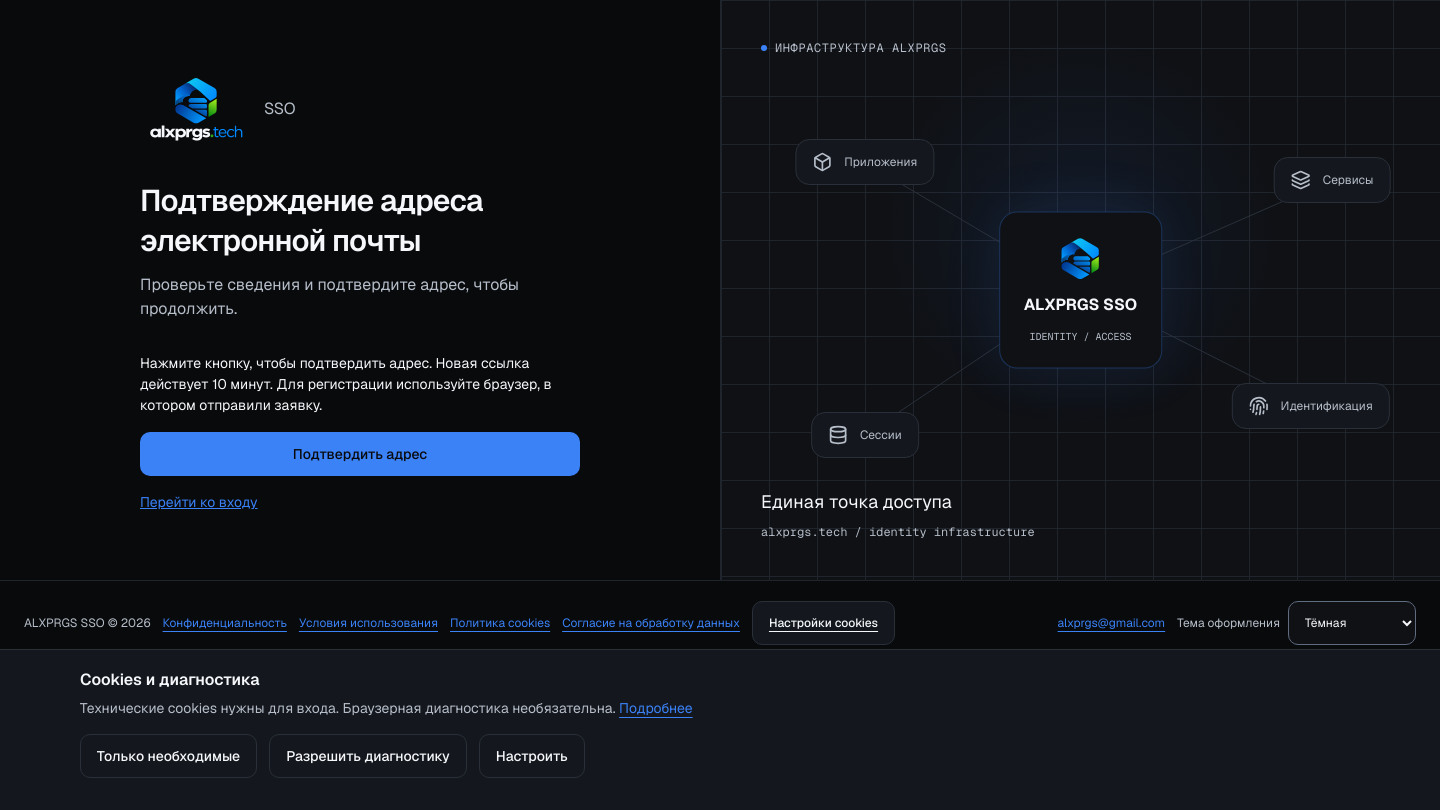
it: server capabilities and account flows › opens a verification link without a session and waits for a user click
The image size is (1440, 810).
Click the button "Подтвердить адрес".
click(360, 454)  # box [140, 432, 580, 476]
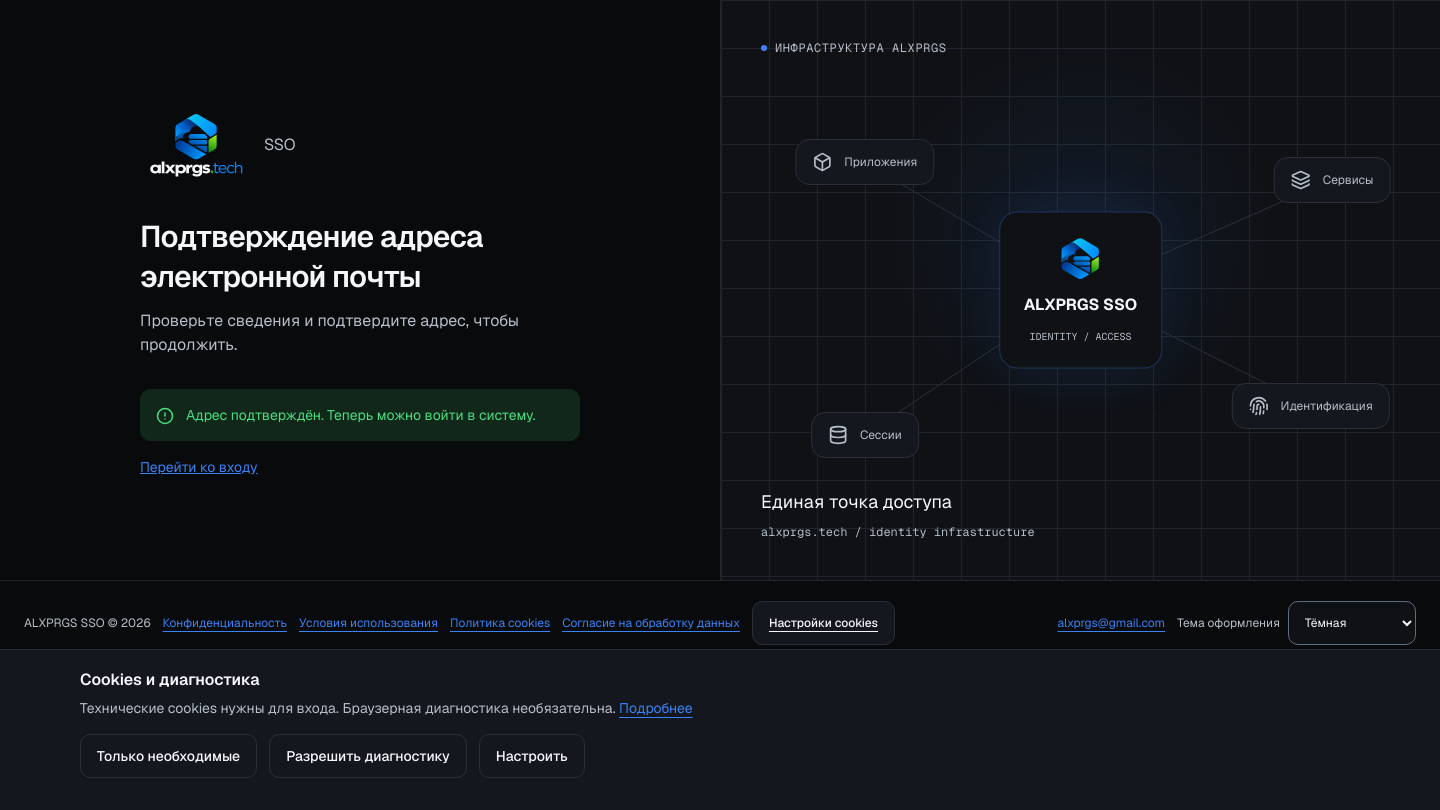
expect the message shows "Адрес подтверждён": met, box [186, 406, 536, 424]
